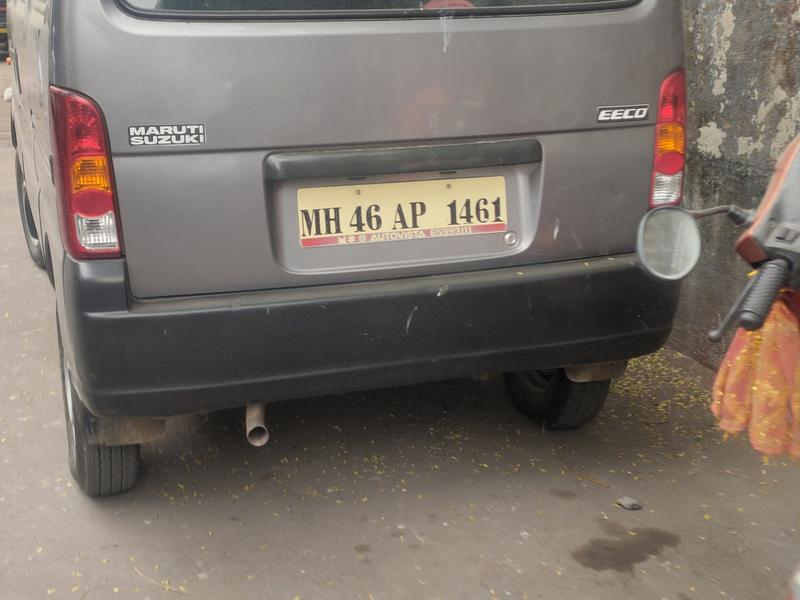license_plate: (287, 173, 520, 243)
